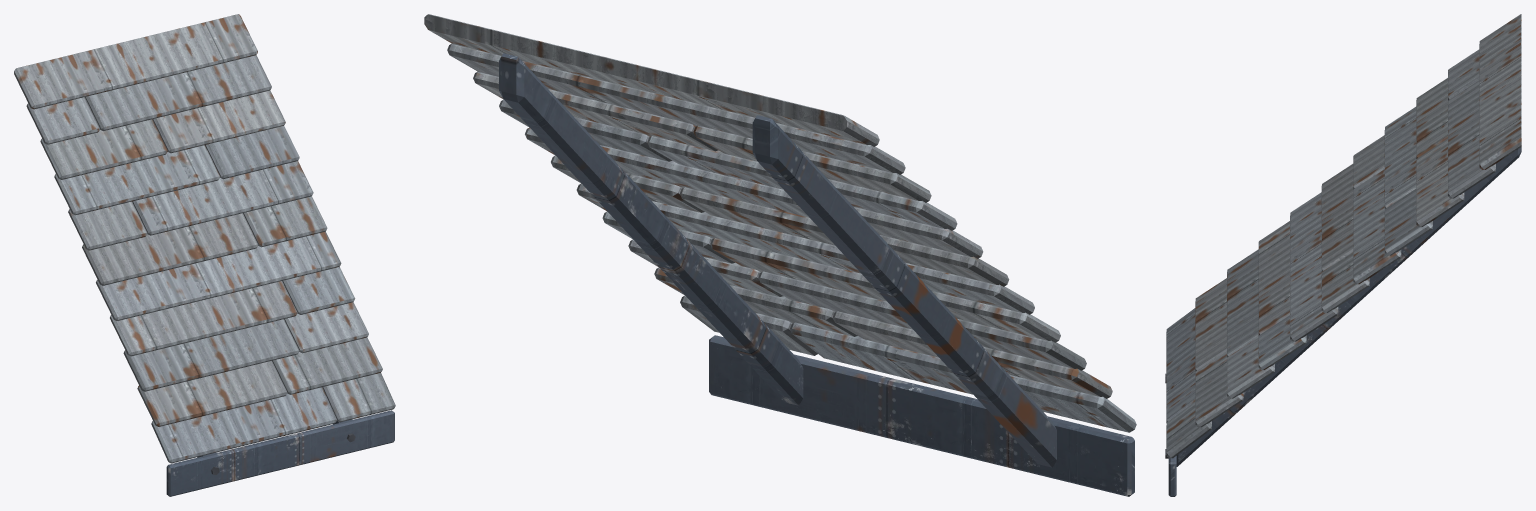
Rendered from egimli_cati.glb.
3 renders of one model, left to right at view 1: azimuth 30°, elevation 25°; view 2: azimuth 150°, elevation 25°; view 3: azimuth 270°, elevation 25°, orthographic. The views are drawn at different scales.
Visible parts, largest first — view 1: egimli_cati; view 2: egimli_cati; view 3: egimli_cati.
Boxes of the visible parts, x1,y1,x2,y2 form: egimli_cati: (14, 14, 395, 496); egimli_cati: (424, 14, 1136, 496); egimli_cati: (1165, 14, 1521, 496).
Size of the model in its own units: 3 by 4 by 3.6.
Materials: 1 (1 with a texture image).
